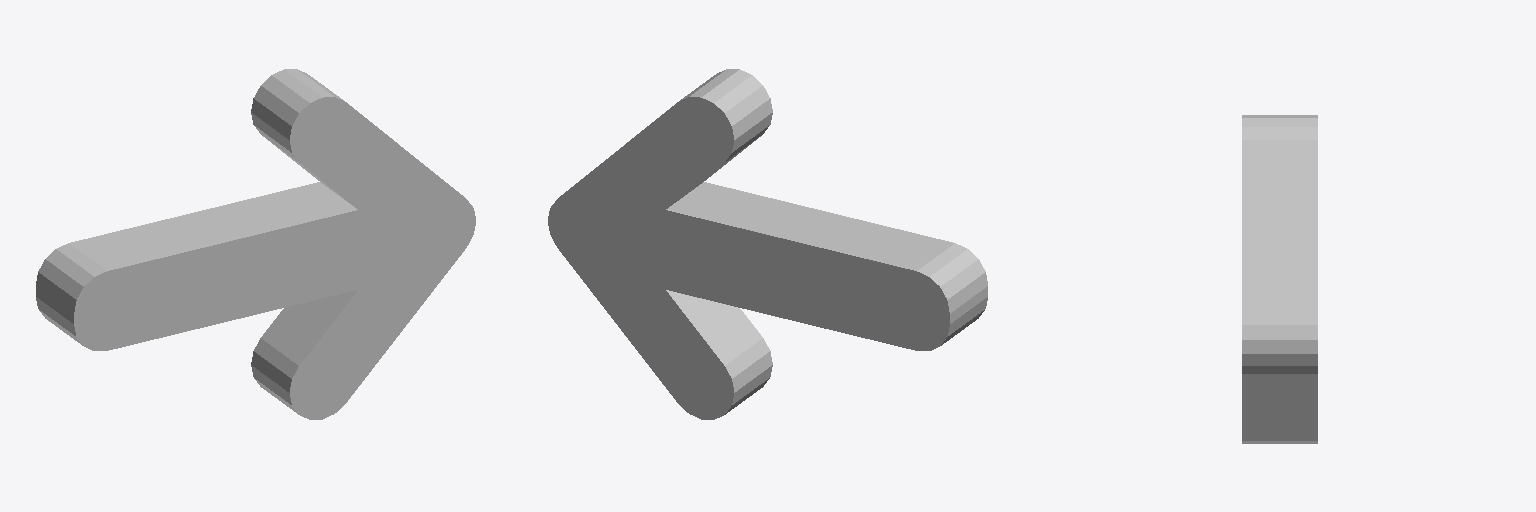
File: Arrow_69.obj
3 renders of one model, left to right at view 1: azimuth 30°, elevation 25°; view 2: azimuth 150°, elevation 25°; view 3: azimuth 270°, elevation 25°, orthographic.
Visible parts, largest first — view 1: Arrow_69; view 2: Arrow_69; view 3: Arrow_69.
Part boxes in pixels (x1,y1,x2,y2): Arrow_69: (36,69,475,419); Arrow_69: (548,69,987,419); Arrow_69: (1242,115,1317,443).
Size of the model in its own units: 5.14 by 3.93 by 0.852.